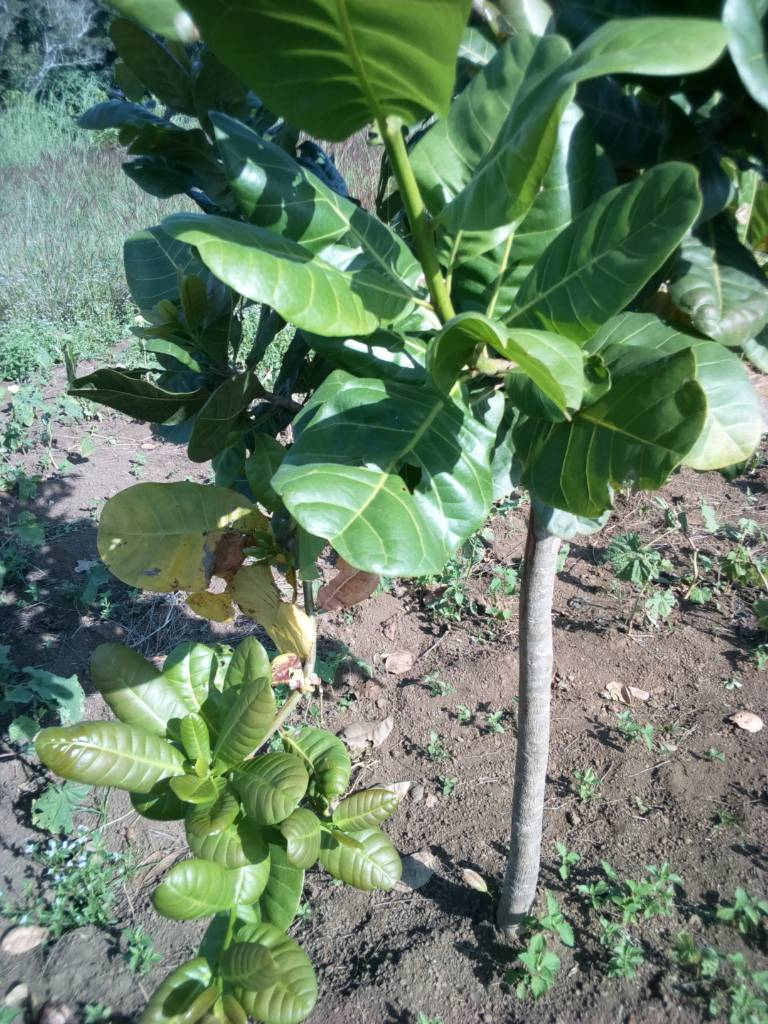Helopeltis anacardii: (440, 28, 679, 224), (435, 311, 610, 419)
